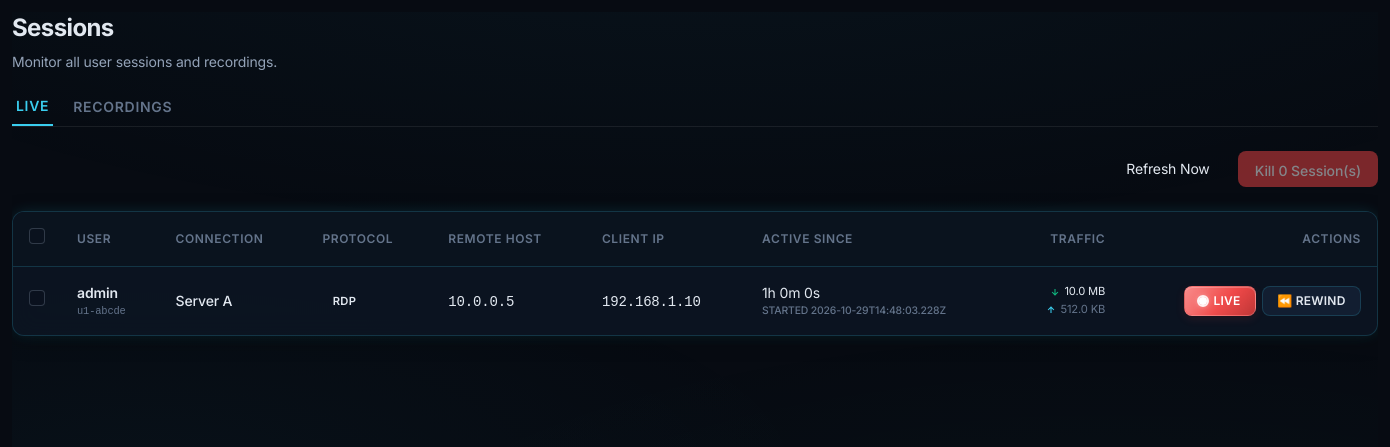
Test: Sessions › shows recording error
Click the button "Recordings": {"x": 123, "y": 111} [69, 96, 176, 126]
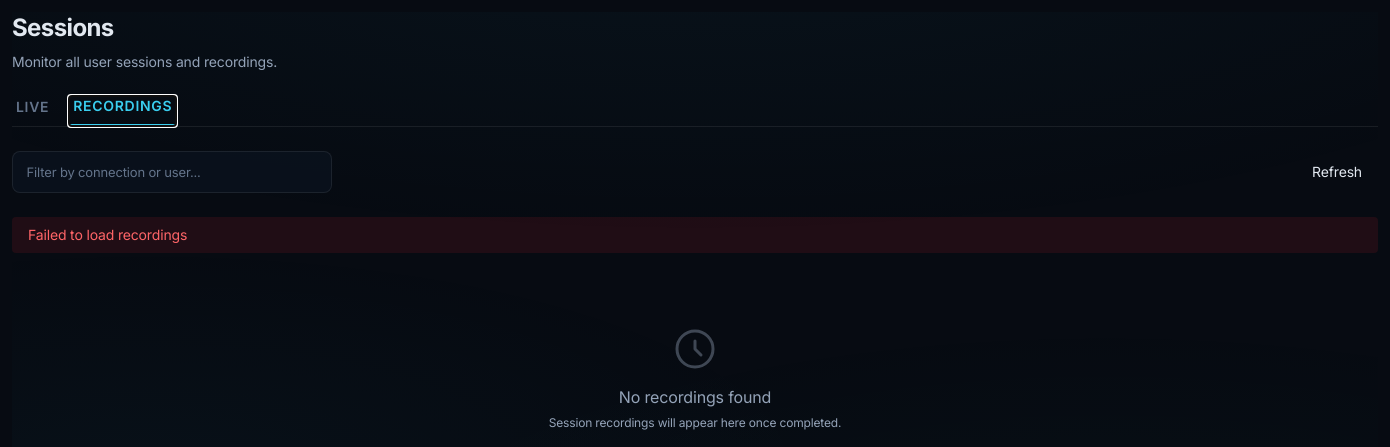
Expected: the text "Failed to load recordings" is shown, [12, 217, 1378, 253]
